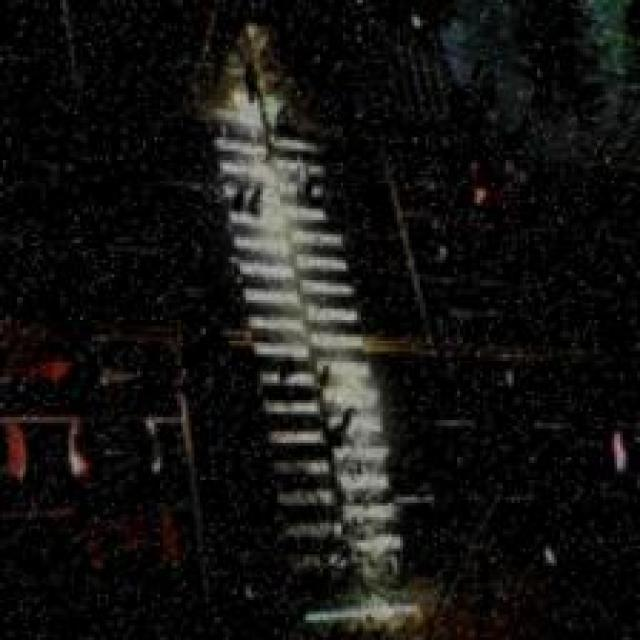zebra: (219, 79, 404, 640)
